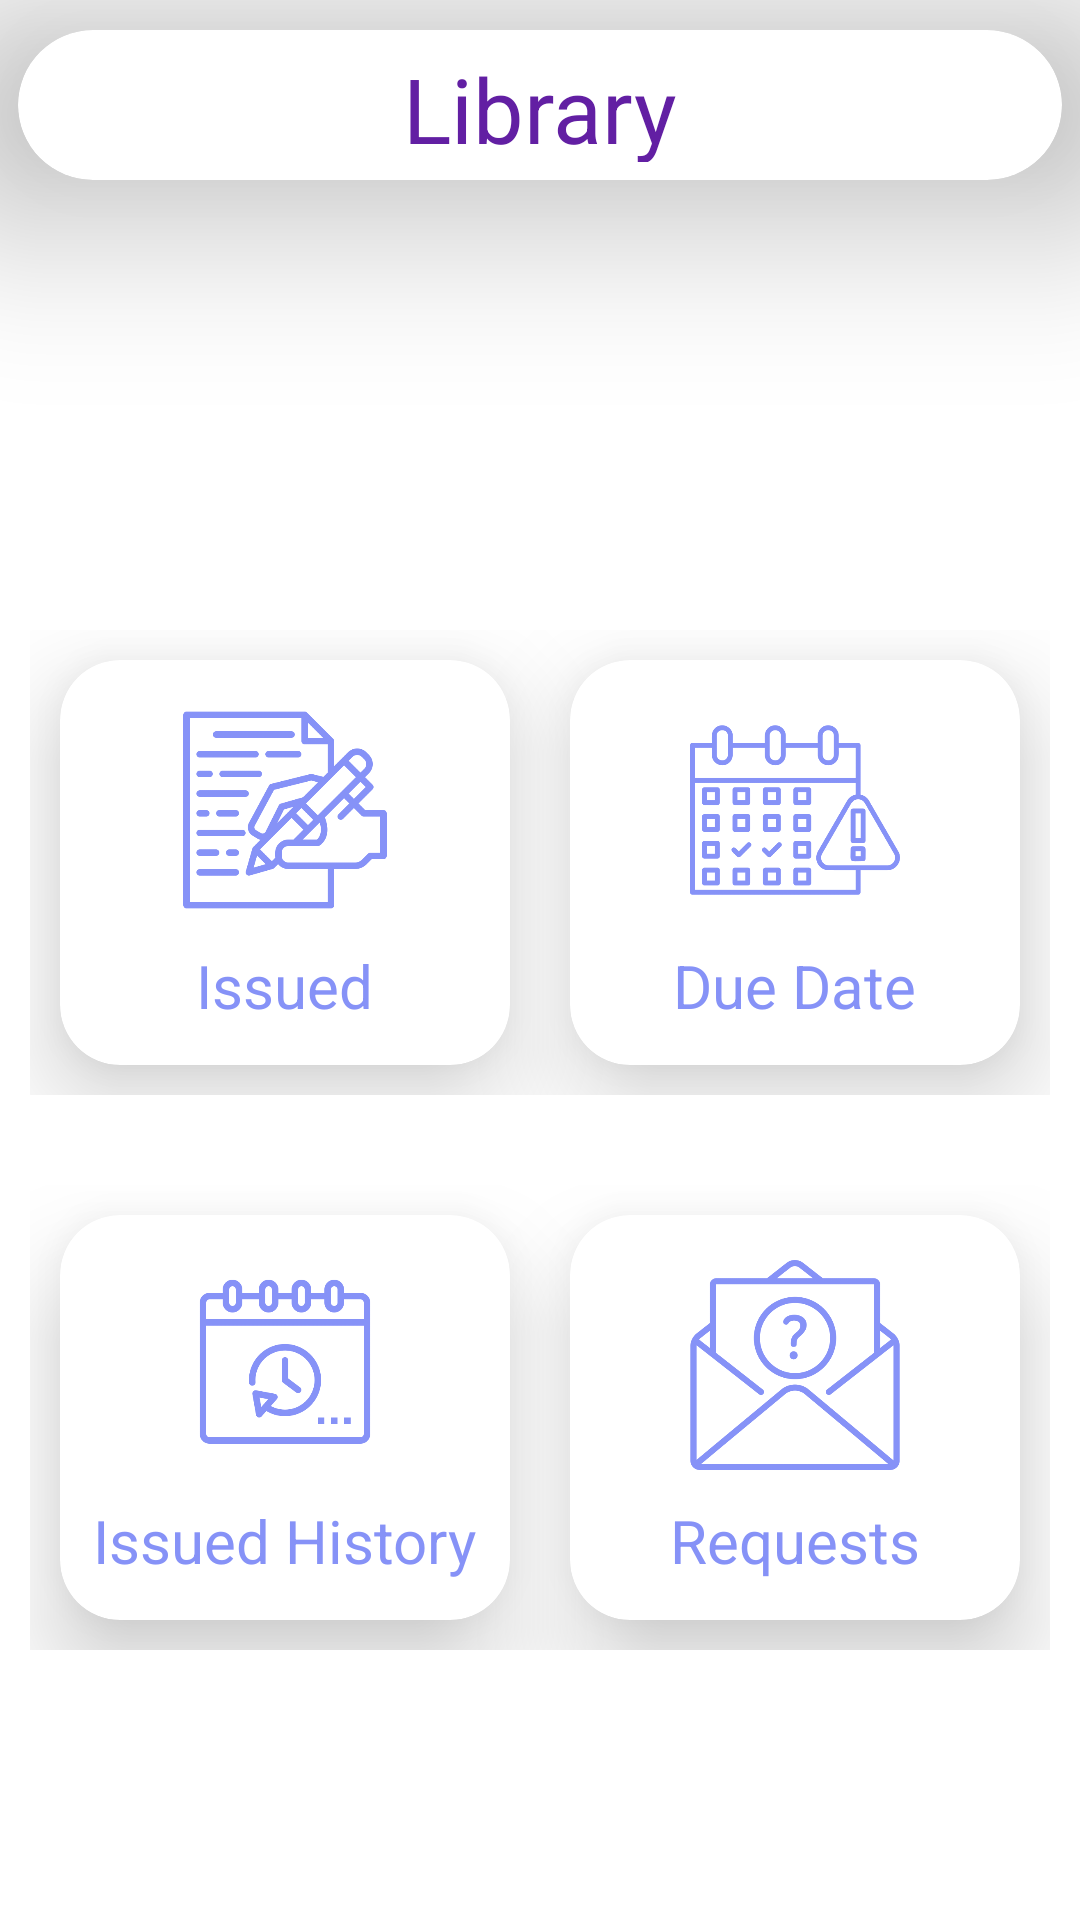

Screen size 1080px×1920px. Icon name, then its center in pixels as point (x, y):
libhistory: point (285, 1362)
